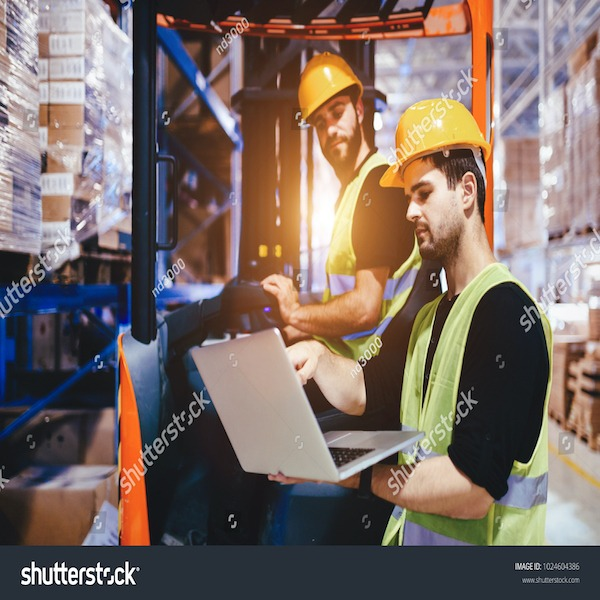helmet: (380, 95, 488, 177), (293, 53, 366, 118)
vest: (405, 282, 543, 534), (328, 170, 392, 339)
